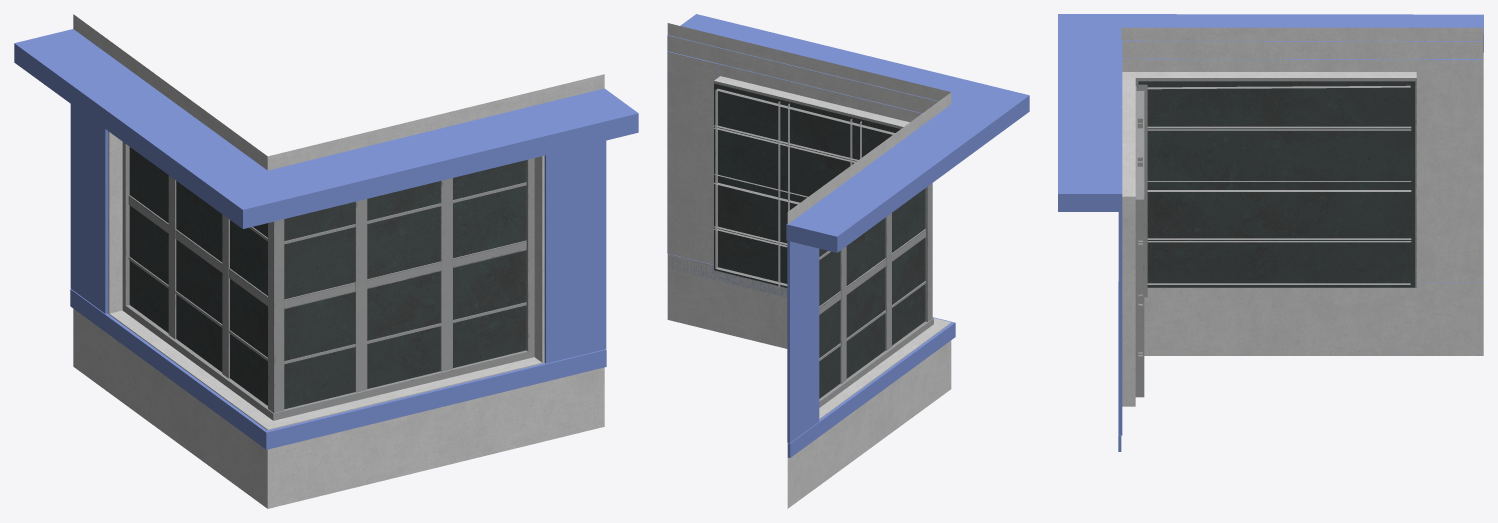
File: MB_Wall_Window_A_24.fbx
3 renders of one model, left to right at view 1: azimuth 30°, elevation 25°; view 2: azimuth 150°, elevation 25°; view 3: azimuth 270°, elevation 25°, orthographic. The views are drawn at different scales.
Visible parts, largest first — view 1: MB_Wall_Window_A_24; view 2: MB_Wall_Window_A_24; view 3: MB_Wall_Window_A_24.
Boxes of the visible parts, x1,y1,x2,y2 form: MB_Wall_Window_A_24: [14, 14, 638, 508]; MB_Wall_Window_A_24: [667, 14, 1029, 508]; MB_Wall_Window_A_24: [1058, 14, 1483, 451].
Bounding box in the file's own units: 470 × 400 × 470.
